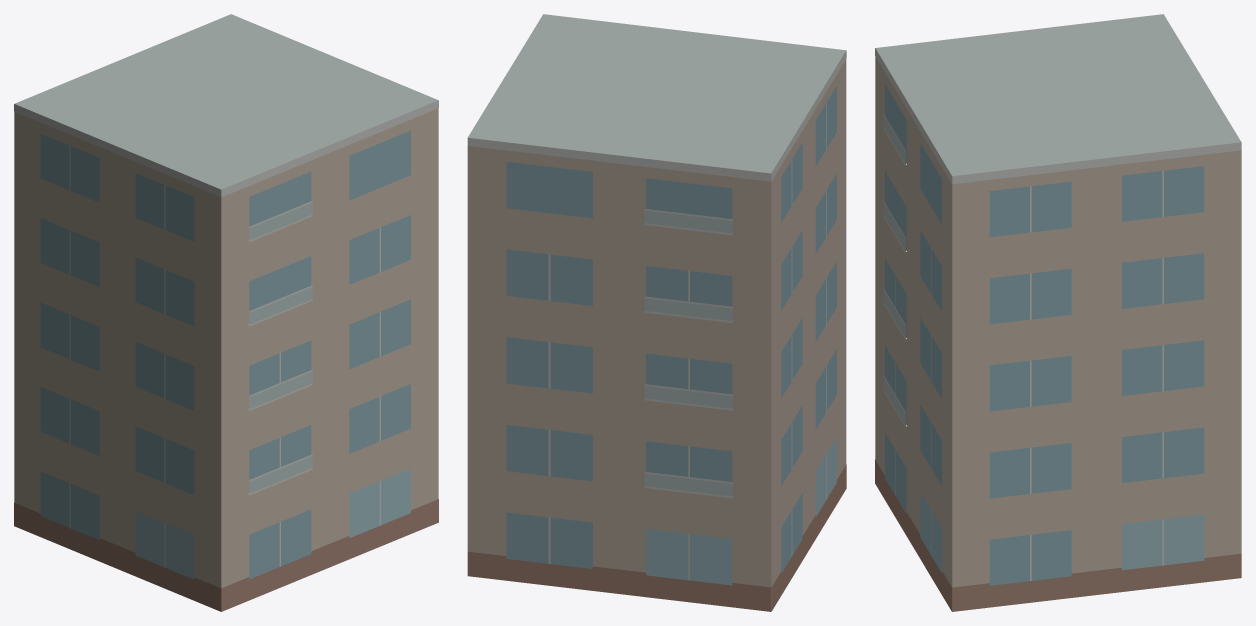
The model's file is survey-upis-32984153.glb.
3 views of the same model, side by side, from view 1: azimuth 30°, elevation 25°; view 2: azimuth 150°, elevation 25°; view 3: azimuth 270°, elevation 25° (orthographic). The views are drawn at different scales.
Parts seen in each view (by area): view 1: survey-upis-32984153.tmp; view 2: survey-upis-32984153.tmp; view 3: survey-upis-32984153.tmp.
Boxes of the visible parts, bbox=[...] form: survey-upis-32984153.tmp: bbox=[14, 14, 438, 611]; survey-upis-32984153.tmp: bbox=[467, 14, 846, 611]; survey-upis-32984153.tmp: bbox=[875, 14, 1241, 611].
Size of the model in its own units: 10.55 by 13.2 by 10.07.
